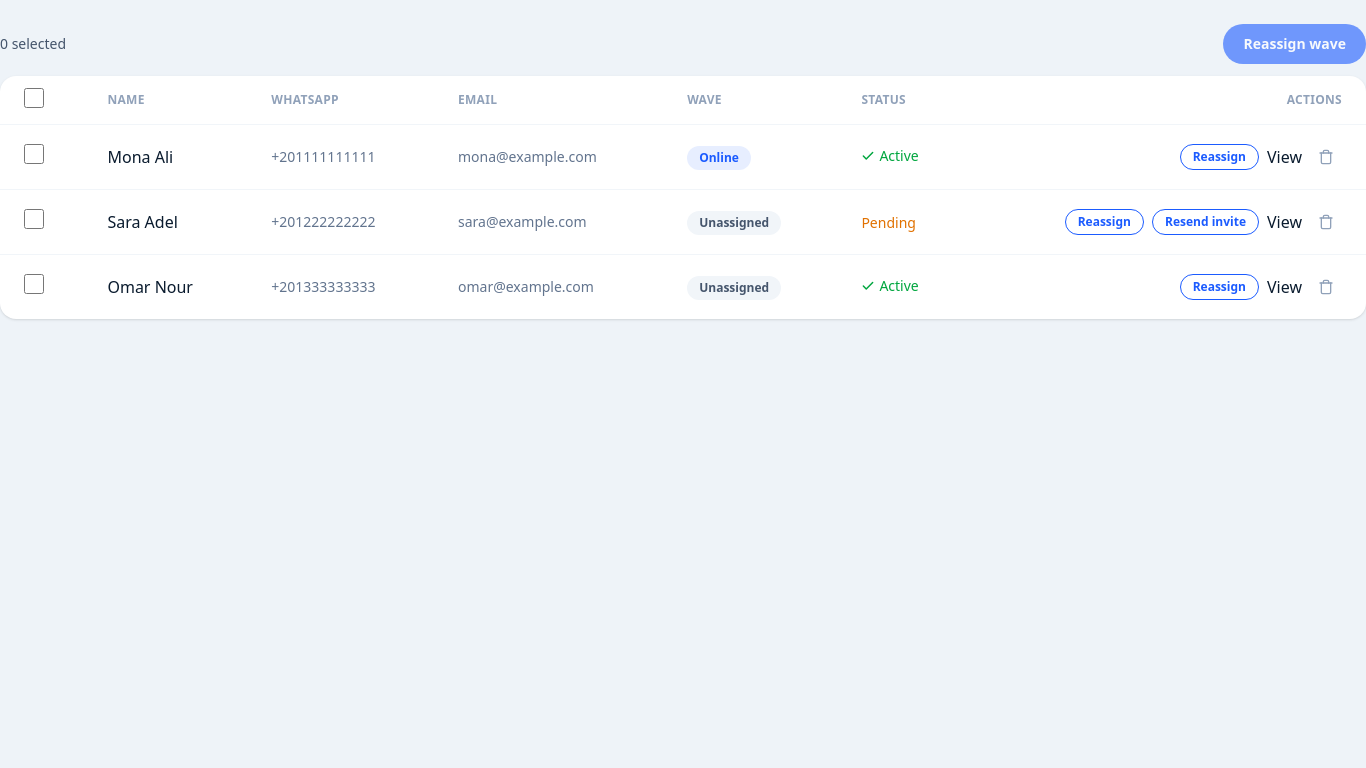
Test case: MemberTable — reassign selection › submits the chosen wave + member ids to reassignMembers, then Done clears the selection
This screenshot has width=1366, height=768.
Click the checkbox named "Select all unassigned members": (34, 98) [24,88,44,108]
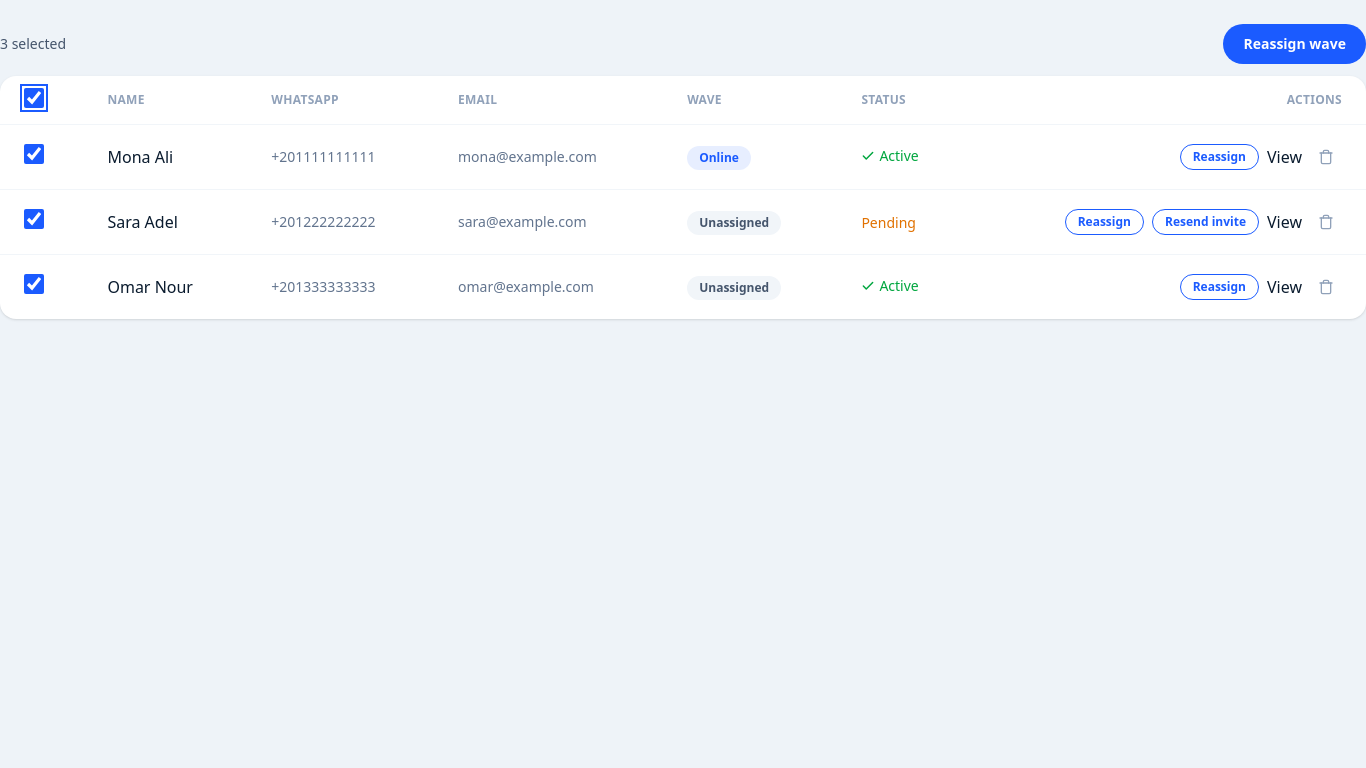
Click the button "Reassign wave": (1295, 44) [1224,24,1365,64]
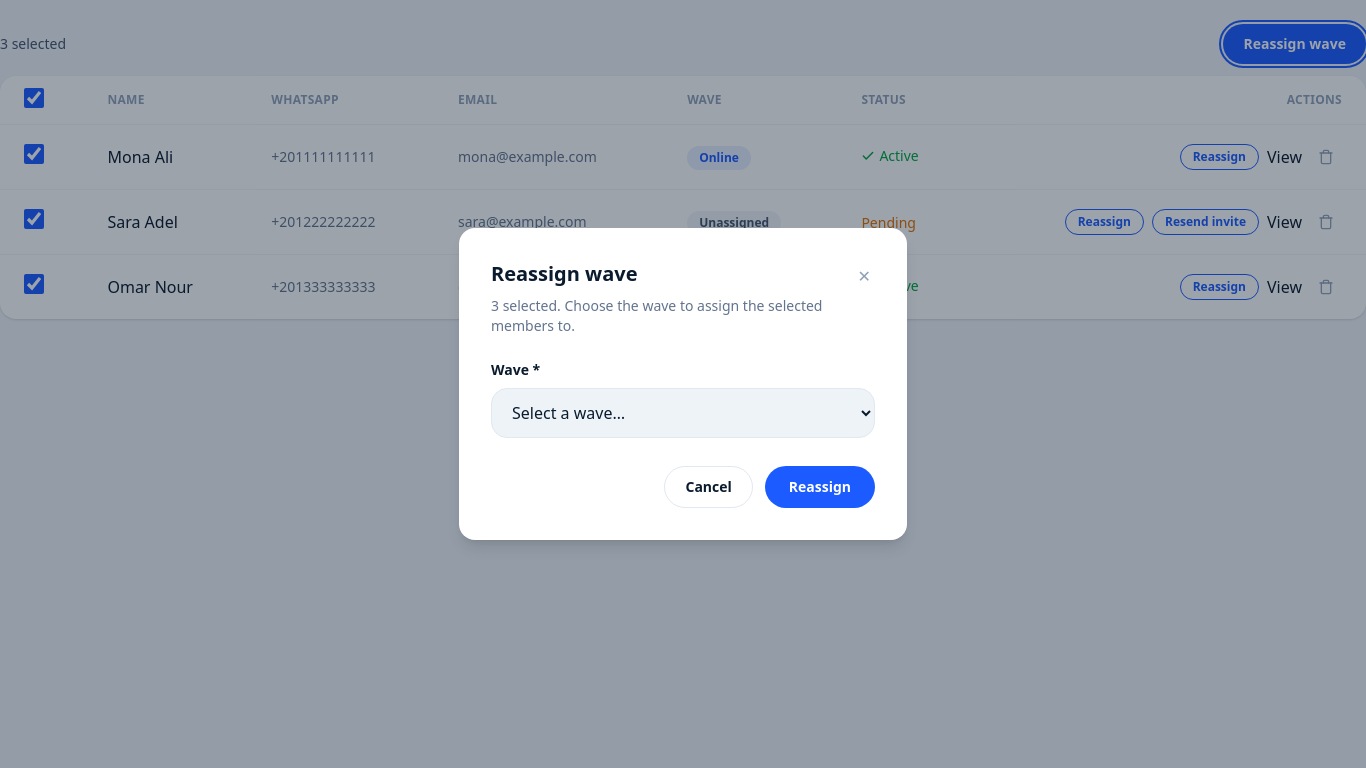
Select "Offline" in the dropdown labelled "Wave *": (683, 413) [491,388,875,438]
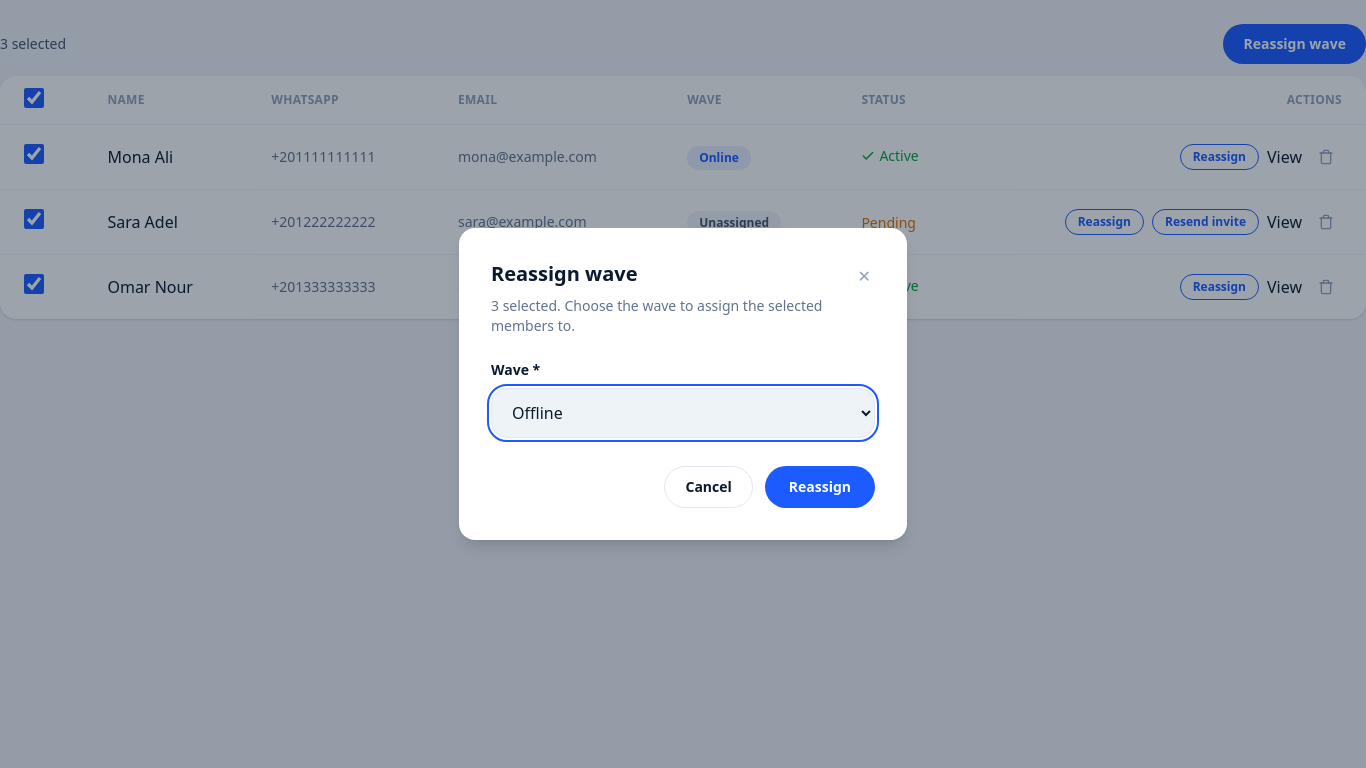
Click the button "Reassign": (820, 487) [765,466,875,508]
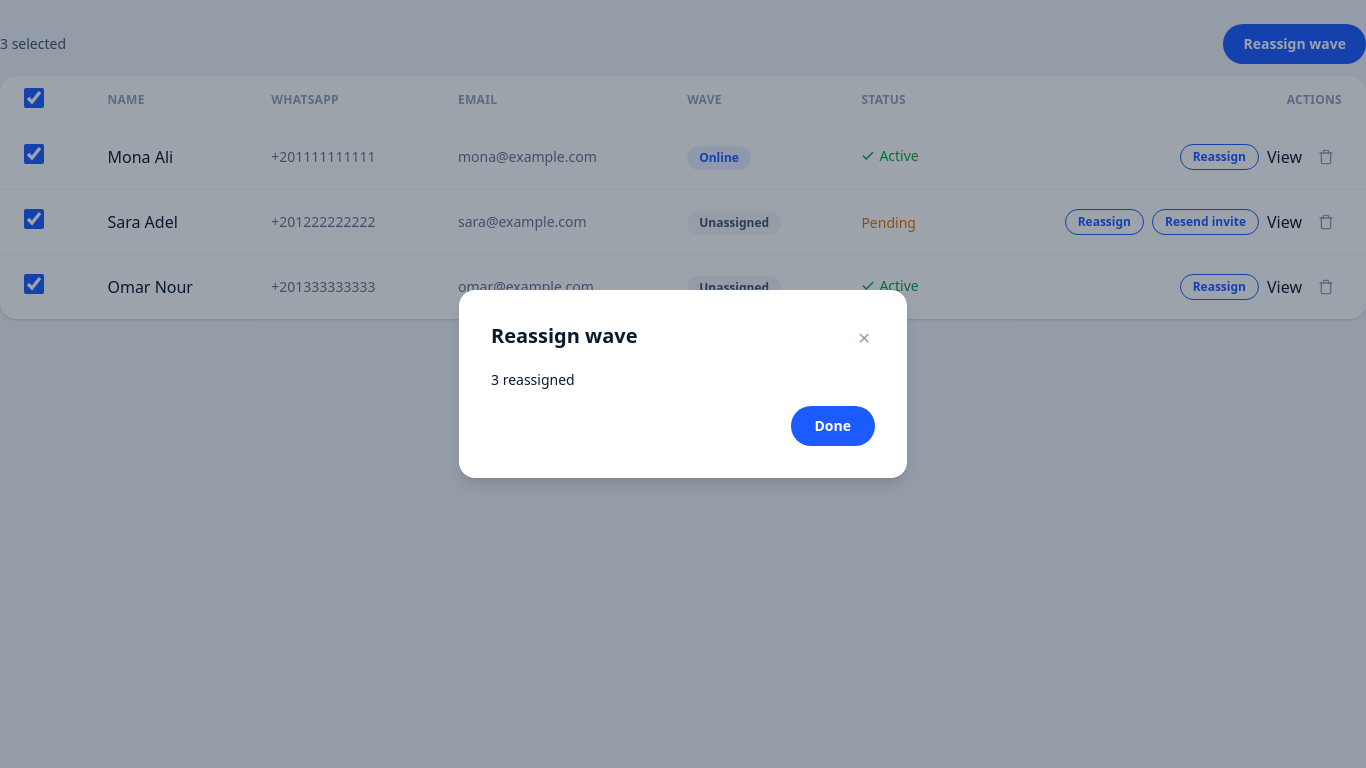
Click the button "Done": (833, 426) [790,406,875,446]
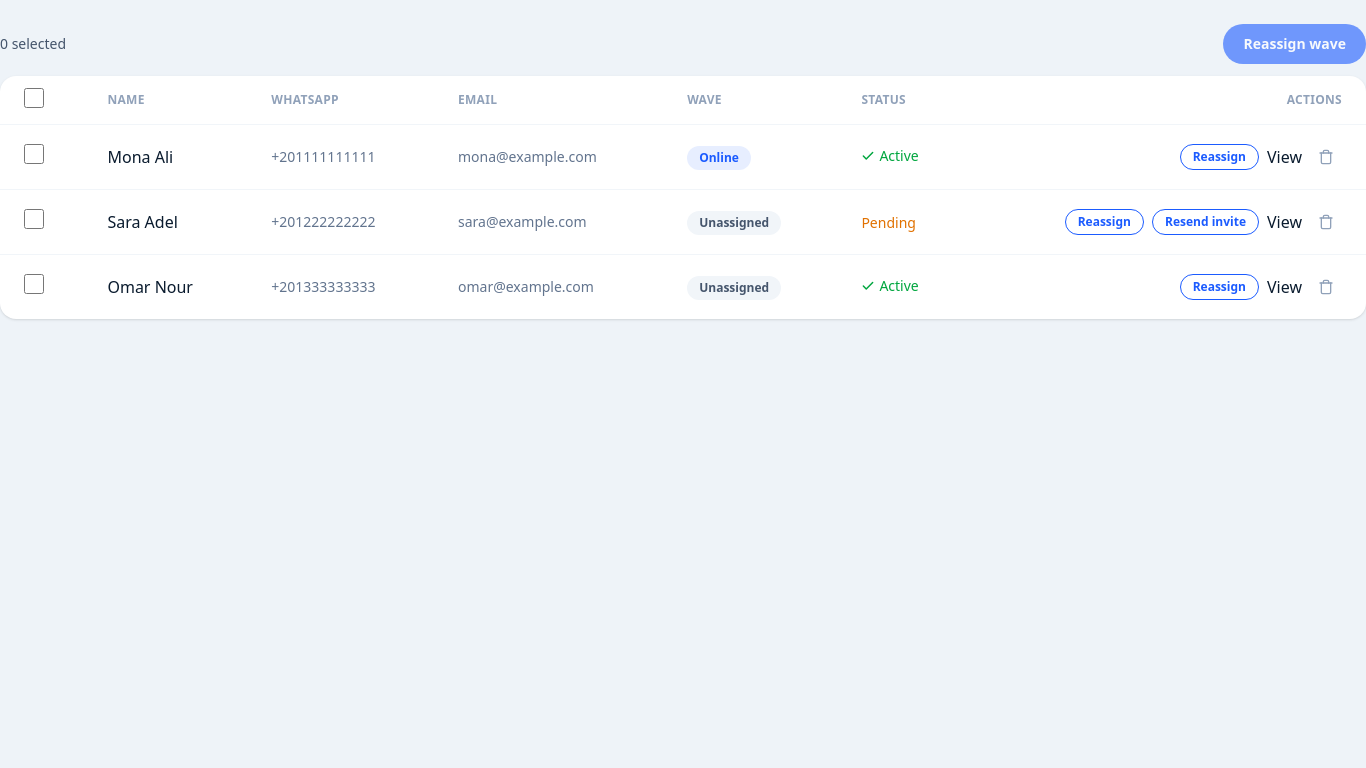
Expected: the dialog is gone
